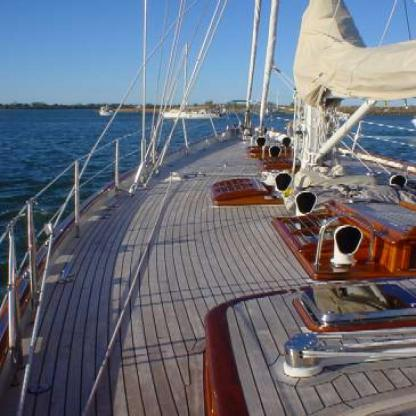boat: (0, 93, 415, 415), (152, 102, 226, 121), (91, 99, 119, 120)
